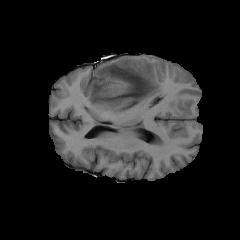glioma: (88, 57, 164, 111)
